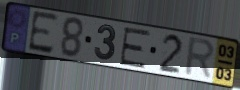2: (157, 32, 184, 77)
3: (93, 23, 118, 63)
8: (59, 16, 86, 60)
E: (26, 9, 60, 56), (118, 26, 153, 70)
R: (182, 35, 217, 82)
